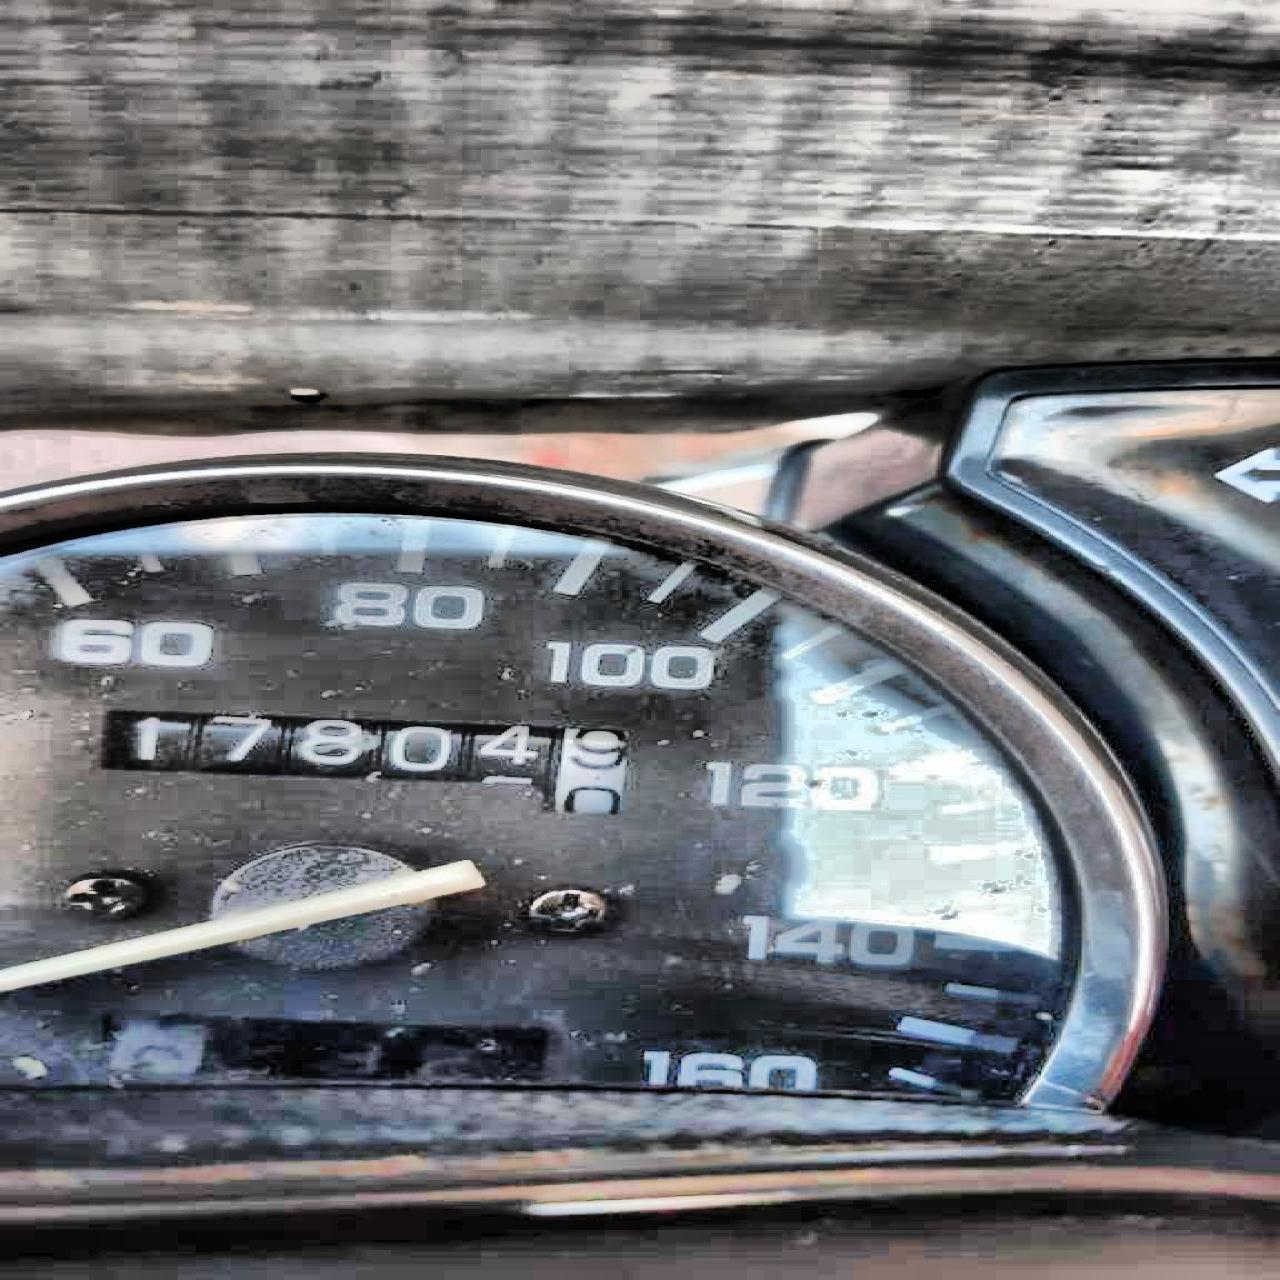0: (380, 721, 456, 774), (553, 781, 620, 815)
1: (122, 714, 176, 764)
4: (469, 722, 540, 767)
7: (204, 712, 275, 764)
8: (290, 716, 367, 765)
9: (566, 727, 626, 771)
odometer: (94, 704, 635, 819)
